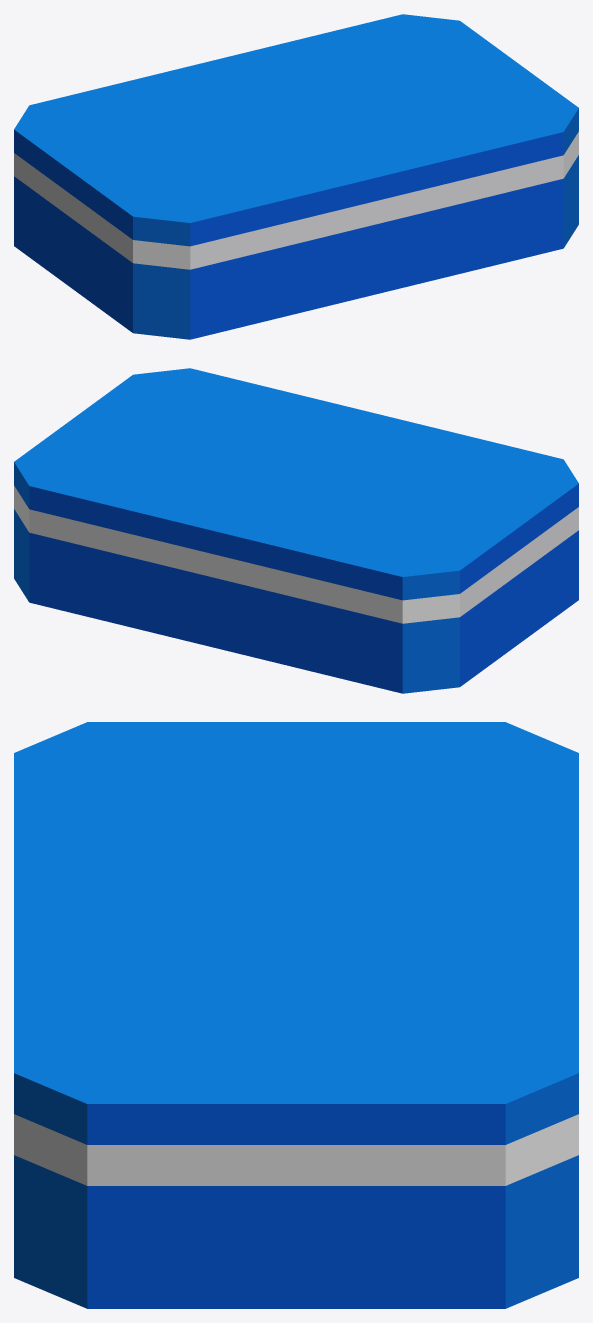
Rendered from NF_Belt_Taker_Out.fbx.
The picture shows the model from 3 angles, top to bottom: view 1: azimuth 30°, elevation 25°; view 2: azimuth 150°, elevation 25°; view 3: azimuth 270°, elevation 25°; orthographic projection. The views are drawn at different scales.
Visible parts, largest first — view 1: NF_Belt_Taker_Out; view 2: NF_Belt_Taker_Out; view 3: NF_Belt_Taker_Out.
Part boxes in pixels (x1=…): NF_Belt_Taker_Out: x1=14, y1=14, x2=578, y2=339; NF_Belt_Taker_Out: x1=14, y1=368, x2=578, y2=693; NF_Belt_Taker_Out: x1=14, y1=722, x2=578, y2=1308.
Bounding box in the file's own units: 2 × 0.5 × 1.25.
